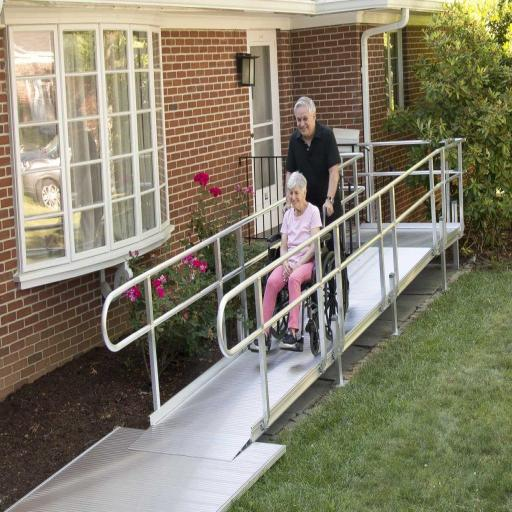entrance: (13, 124, 462, 510)
road: (251, 193, 355, 363)
